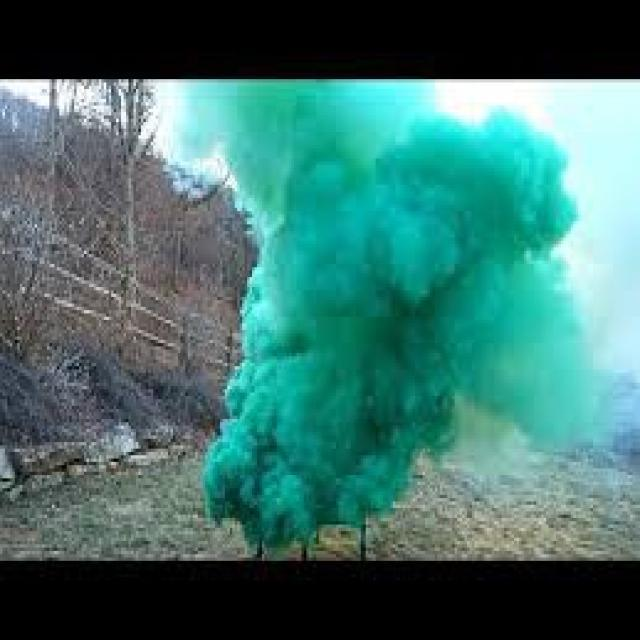Smoke: (173, 79, 614, 561)
